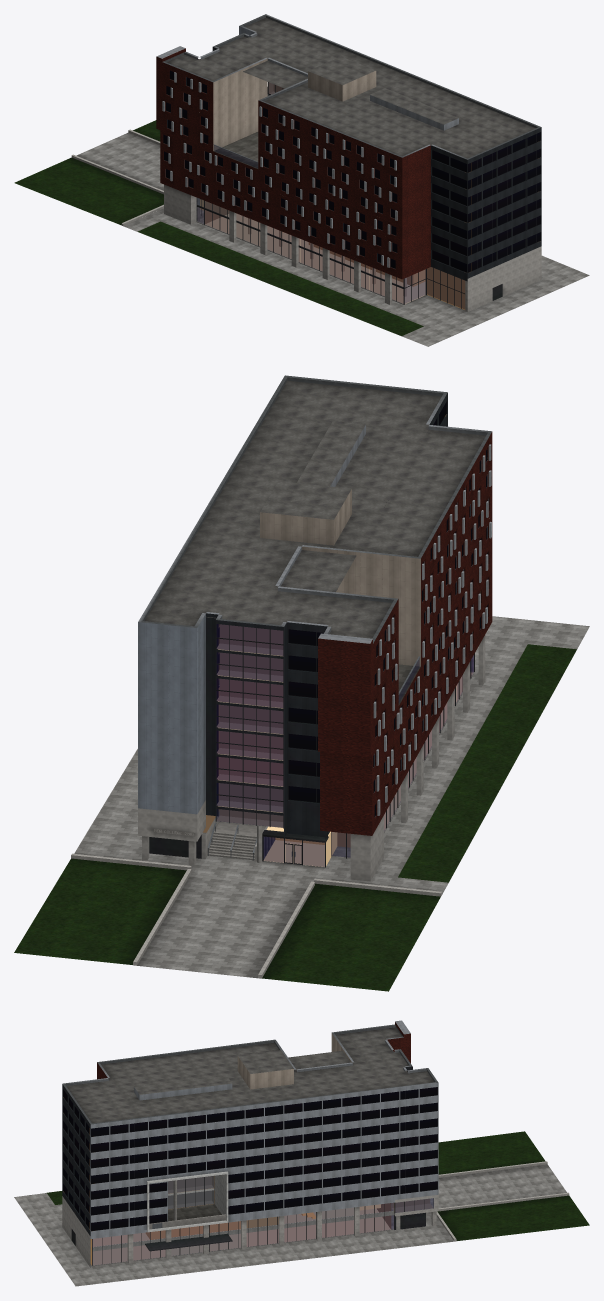
Rendered from william-doo.glb.
The picture shows the model from 3 angles, top to bottom: view 1: azimuth 30°, elevation 25°; view 2: azimuth 150°, elevation 25°; view 3: azimuth 270°, elevation 25°; orthographic projection. The views are drawn at different scales.
Parts seen in each view (by area): view 1: WilliamDoo_Brick, WilliamDoo_Roof, WilliamDoo_Trim, WilliamDoo_Metal, WilliamDoo_Paving, WilliamDoo_Glass, WilliamDoo_Lawn, WilliamDoo_Interior, WilliamDoo_CurtainGlass; view 2: WilliamDoo_Roof, WilliamDoo_Lawn, WilliamDoo_Paving, WilliamDoo_Metal, WilliamDoo_Brick, WilliamDoo_Trim, WilliamDoo_Interior, WilliamDoo_CurtainGlass, WilliamDoo_Glass; view 3: WilliamDoo_Metal, WilliamDoo_Glass, WilliamDoo_Roof, WilliamDoo_Trim, WilliamDoo_Paving, WilliamDoo_Lawn, WilliamDoo_Interior, WilliamDoo_CurtainGlass, WilliamDoo_Brick.
Part boxes in pixels (x1,y1,x2,y2): WilliamDoo_Brick: (156, 48, 430, 279); WilliamDoo_Roof: (166, 18, 535, 158); WilliamDoo_Trim: (71, 14, 541, 312); WilliamDoo_Metal: (212, 26, 541, 281); WilliamDoo_Paving: (76, 132, 589, 346); WilliamDoo_Glass: (163, 70, 540, 272); WilliamDoo_Lawn: (14, 120, 423, 335); WilliamDoo_Interior: (200, 82, 540, 309); WilliamDoo_CurtainGlass: (197, 82, 464, 309); WilliamDoo_Roof: (144, 380, 485, 638); WilliamDoo_Lawn: (14, 644, 576, 991); WilliamDoo_Paving: (74, 616, 589, 978); WilliamDoo_Metal: (138, 392, 447, 839); WilliamDoo_Brick: (318, 432, 492, 835); WilliamDoo_Trim: (71, 375, 491, 978); WilliamDoo_Interior: (203, 414, 480, 866); WilliamDoo_CurtainGlass: (217, 624, 473, 866); WilliamDoo_Glass: (218, 402, 488, 816); WilliamDoo_Metal: (62, 1033, 438, 1238); WilliamDoo_Glass: (63, 1087, 437, 1230); WilliamDoo_Roof: (66, 1027, 434, 1123); WilliamDoo_Trim: (62, 1020, 569, 1267); WilliamDoo_Paving: (14, 1164, 566, 1286); WilliamDoo_Lawn: (47, 1131, 589, 1240); WilliamDoo_Interior: (63, 1097, 432, 1265); WilliamDoo_CurtainGlass: (93, 1176, 433, 1265); WilliamDoo_Brick: (97, 1022, 410, 1079).
Size of the model in its own units: 64.57 by 30.5 by 101.
Materials: 9 (7 with a texture image).
